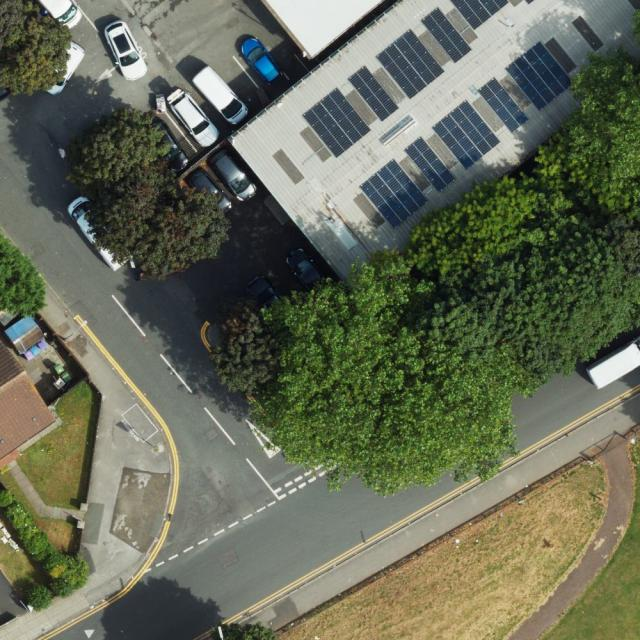roof: (230, 0, 639, 284), (263, 0, 382, 61), (0, 339, 58, 461)
solar: (372, 27, 447, 102), (357, 158, 431, 231), (430, 98, 502, 172), (300, 87, 371, 160), (504, 39, 571, 112), (346, 64, 401, 123), (420, 4, 474, 64), (403, 136, 458, 193), (477, 76, 530, 134), (451, 0, 510, 32)
